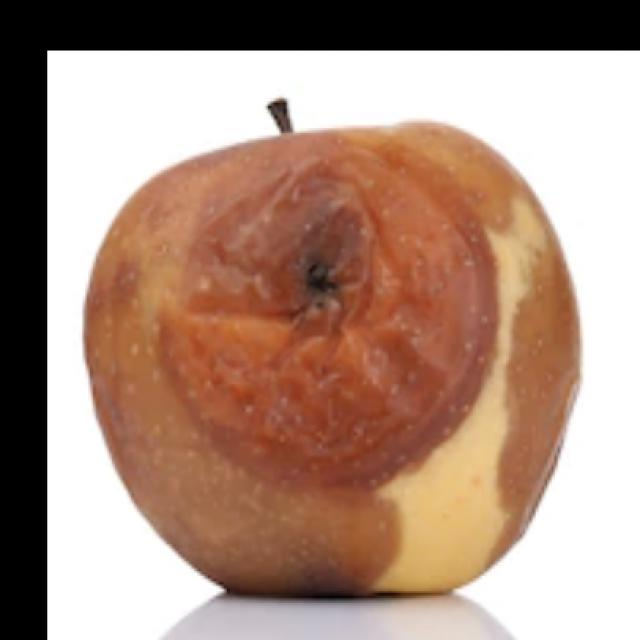Rotten: (122, 146, 560, 612)
